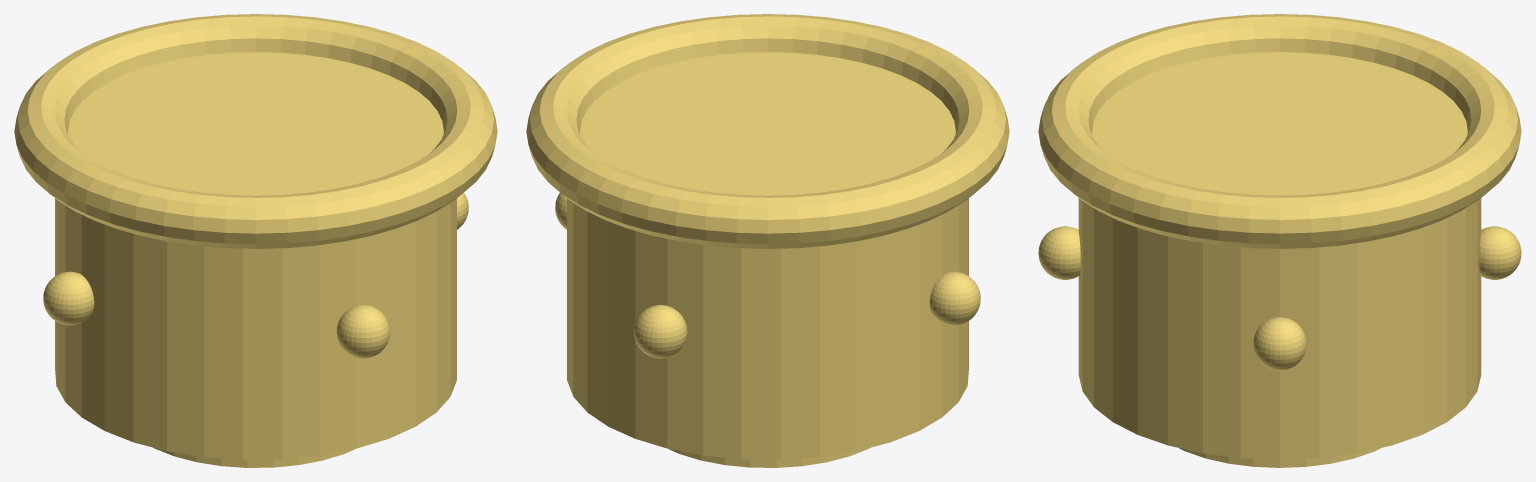
File: pot_legendary.glb
3 views of the same model, side by side, from view 1: azimuth 30°, elevation 25°; view 2: azimuth 150°, elevation 25°; view 3: azimuth 270°, elevation 25° (orthographic).
Visible parts, largest first — view 1: Cylinder, Torus.004, Sphere.003, Sphere.002, Cylinder.001; view 2: Cylinder, Torus.004, Sphere.001, Sphere.002, Cylinder.001; view 3: Cylinder, Torus.004, Sphere, Sphere.001, Sphere.003, Cylinder.001.
Part boxes in pixels (x1=…): Cylinder: x1=55, y1=52, x2=456, y2=459; Torus.004: x1=14, y1=14, x2=497, y2=248; Sphere.003: x1=336, y1=305, x2=390, y2=358; Sphere.002: x1=43, y1=271, x2=94, y2=325; Cylinder.001: x1=153, y1=447, x2=355, y2=467; Cylinder: x1=567, y1=52, x2=968, y2=459; Torus.004: x1=526, y1=14, x2=1009, y2=248; Sphere.001: x1=633, y1=305, x2=687, y2=358; Sphere.002: x1=929, y1=271, x2=980, y2=325; Cylinder.001: x1=668, y1=447, x2=870, y2=467; Cylinder: x1=1078, y1=52, x2=1481, y2=459; Torus.004: x1=1038, y1=14, x2=1521, y2=248; Sphere: x1=1253, y1=317, x2=1306, y2=370; Sphere.001: x1=1479, y1=226, x2=1521, y2=279; Sphere.003: x1=1038, y1=226, x2=1080, y2=279; Cylinder.001: x1=1179, y1=448, x2=1380, y2=467.
Size of the model in its own units: 0.36 by 0.25 by 0.36.
